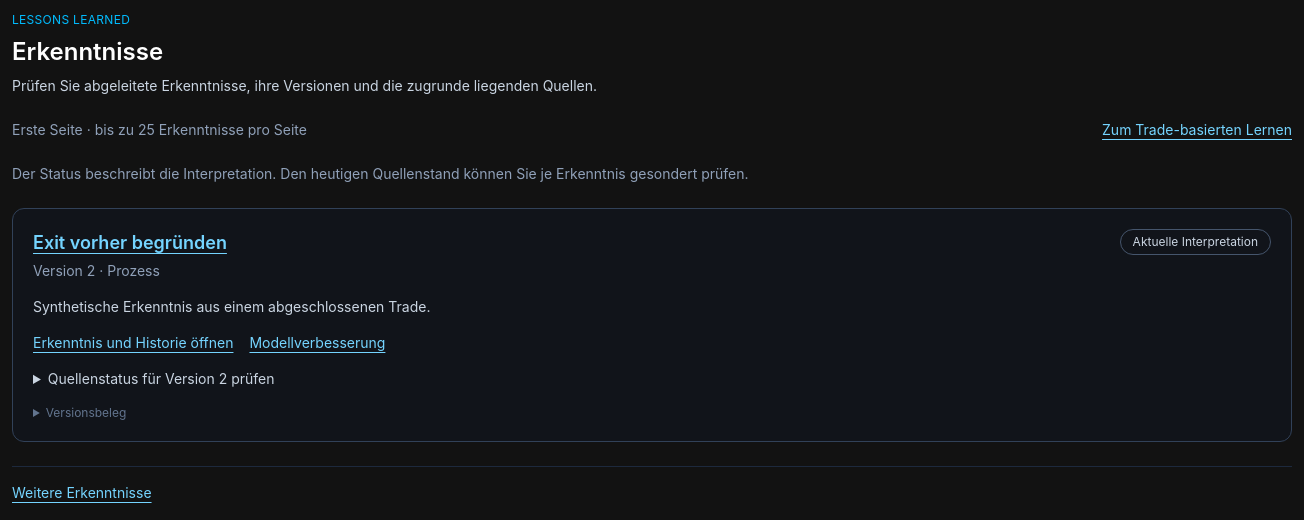
Test: LessonListPage › pages with opaque cursors and carries the same list slice into a detail return link
Click the link "Weitere Erkenntnisse".
click(82, 493)  # box [12,483,152,503]
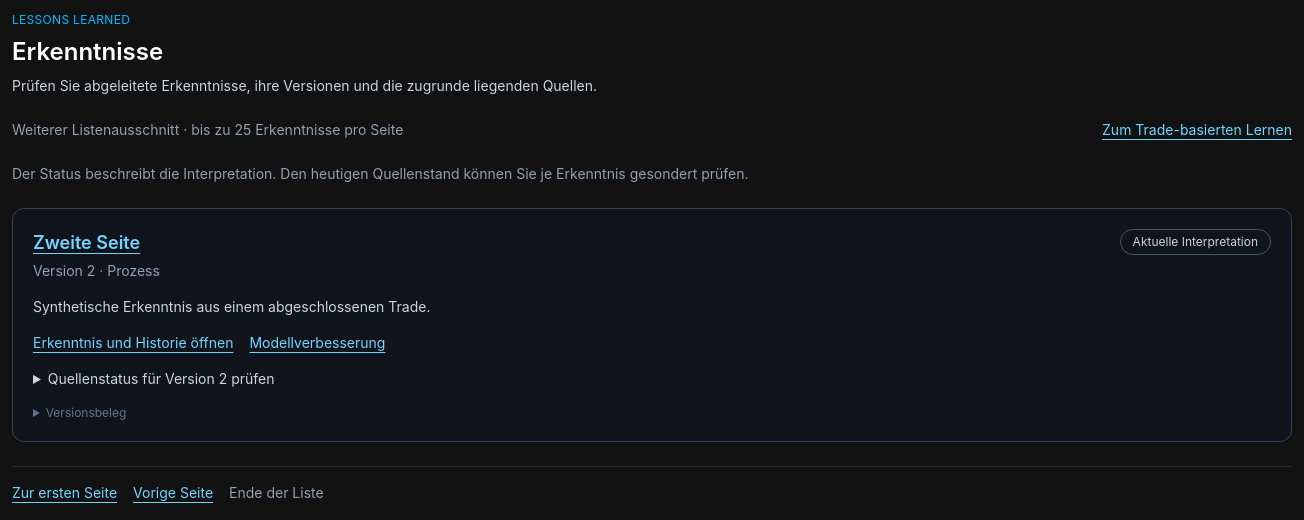
Now the text "Ende der Liste" is shown, box [229,483,324,503]
